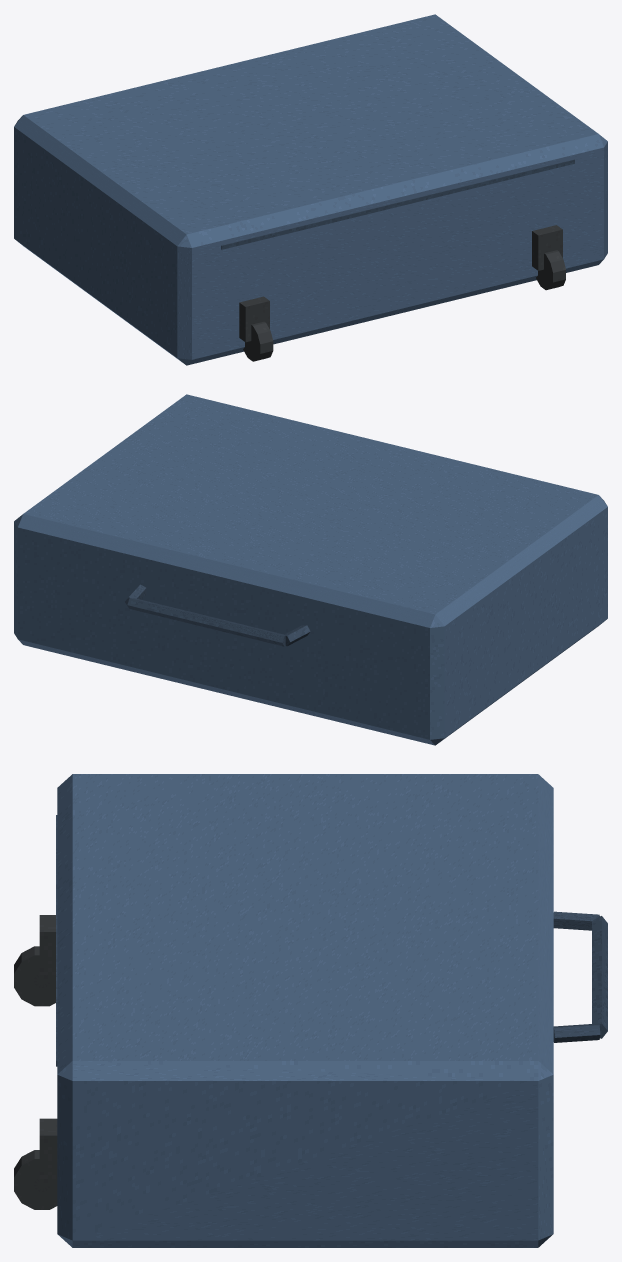
Rendered from suitcase_m.glb.
3 views of the same model, one above another, from view 1: azimuth 30°, elevation 25°; view 2: azimuth 150°, elevation 25°; view 3: azimuth 270°, elevation 25° (orthographic). The views are drawn at different scales.
Parts seen in each view (by area): view 1: block_bag body, block_zipper or closure, block_bumper -0.19040000000000004, block_bumper 0.19040000000000004, block_roller -0.19040000000000004, block_roller 0.19040000000000004; view 2: block_bag body, block_luggage handle 1; view 3: block_bag body, block_luggage handle 1, block_roller 0.19040000000000004, block_roller -0.19040000000000004, block_bumper 0.19040000000000004, block_bumper -0.19040000000000004, block_luggage handle 2, block_luggage handle 0.
Part boxes in pixels (x1,y1,x2,y2): block_bag body: (14,14,607,365); block_zipper or closure: (221,159,574,249); block_bumper -0.19040000000000004: (239,296,269,342); block_bumper 0.19040000000000004: (532,225,562,270); block_roller -0.19040000000000004: (243,321,273,361); block_roller 0.19040000000000004: (536,250,565,290); block_bag body: (14,394,607,745); block_luggage handle 1: (127,598,285,646); block_bag body: (57,774,553,1247); block_luggage handle 1: (592,916,607,1038); block_roller 0.19040000000000004: (14,1150,57,1209); block_roller -0.19040000000000004: (14,946,55,1006); block_bumper 0.19040000000000004: (39,1118,57,1186); block_bumper -0.19040000000000004: (39,915,55,982); block_luggage handle 2: (553,1024,600,1042); block_luggage handle 0: (553,911,599,930).
Size of the model in its own units: 0.56 by 0.163 by 0.4692.
1 material, 1 textured.
